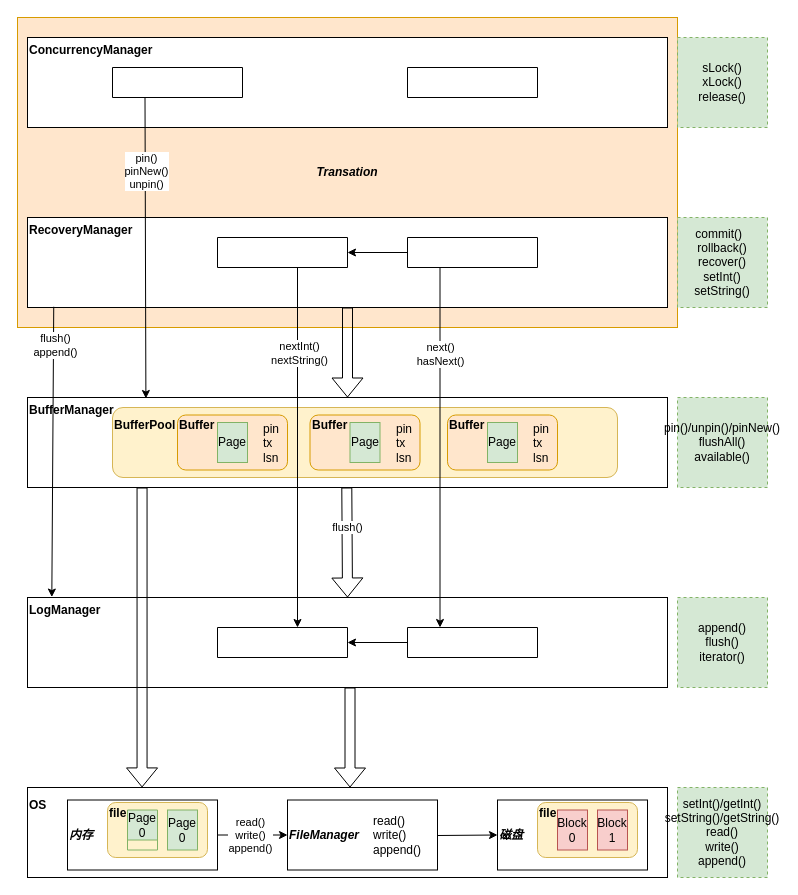
This 798x895 diagram has some shape labels left out. The centre of each missing label's shape, as x and y in pixels:
BasicLogRecord: (x=282, y=642)
BufferList: (x=177, y=82)
LockTable: (x=472, y=82)
LogIterator: (x=472, y=642)
LogRecord: (x=282, y=252)
LogRecordIterator: (x=472, y=252)
